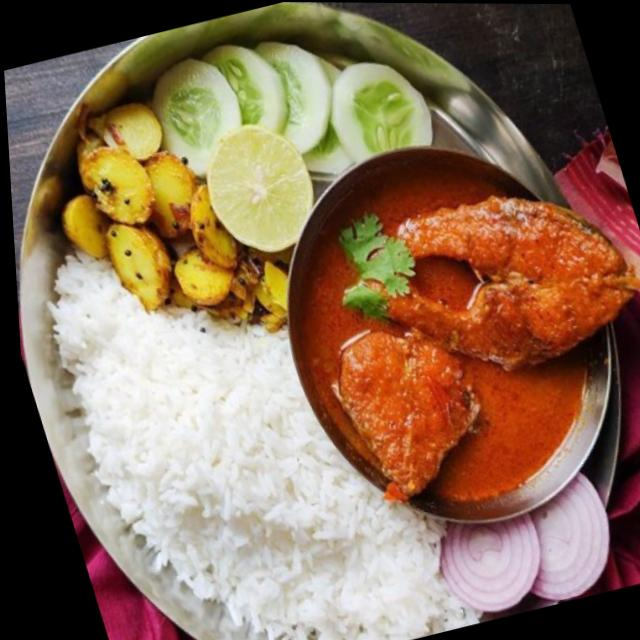FISH CURRY: (290, 170, 640, 491)
RICE: (43, 252, 485, 640)
VEGGIES: (56, 154, 285, 322)
